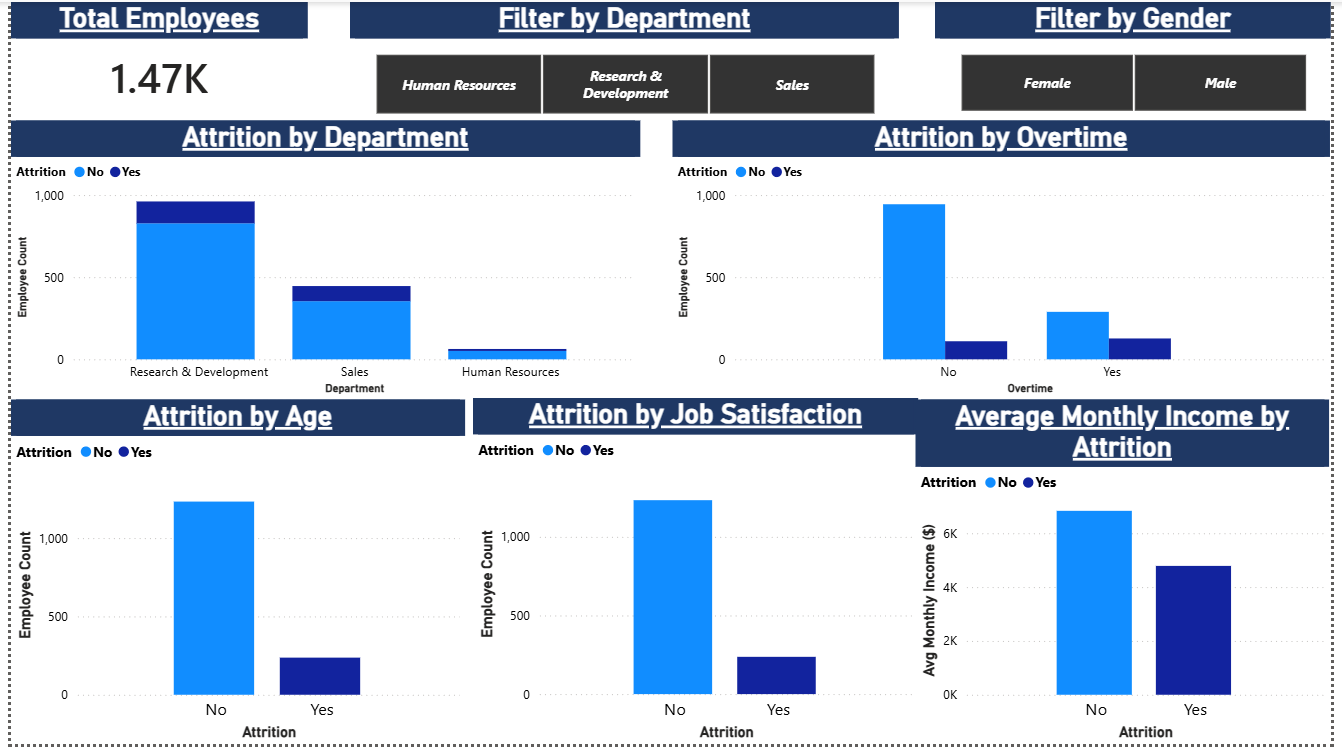

Layout of this report page (visuals, bound fields, positions):
{"tool":"powerbi","page":{"name":"Page 1","canvas":[1280,720],"ordinal":0},"visuals":[{"type":"cardVisual","title":"Total Employees","fields":{"Data":["CountNonNull(public attrition.employeenumber)"]},"box":[0,0,288,112],"z":0},{"type":"clusteredColumnChart","title":"Attrition by Overtime","fields":{"Category":["public attrition.overtime"],"Series":["public attrition.attrition"],"Y":["CountNonNull(public attrition.employeenumber)"]},"box":[641.2,115,638,270.4],"z":1000},{"type":"columnChart","title":"Attrition by Age","fields":{"Y":["CountNonNull(public attrition.age)"],"Category":["public attrition.attrition"],"Series":["public attrition.attrition"]},"box":[0,385.4,440.4,335.2],"z":2000},{"type":"columnChart","title":"Attrition by Job Satisfaction","fields":{"Y":["CountNonNull(public attrition.jobsatisfaction)"],"Category":["public attrition.attrition"],"Series":["public attrition.attrition"]},"box":[448,384,432,336],"z":3000},{"type":"columnChart","title":"Average Monthly Income by Attrition","fields":{"Y":["Avg(public attrition.monthlyincome)"],"Category":["public attrition.attrition"],"Series":["public attrition.attrition"]},"box":[877.6,385.4,401.6,335.2],"z":4000},{"type":"columnChart","title":"Attrition by Department","fields":{"Category":["public attrition.department"],"Series":["public attrition.attrition"],"Y":["CountNonNull(public attrition.employeenumber)"]},"box":[0,115,610.4,270.4],"z":5000},{"type":"slicer","title":"Filter by Gender","fields":{"Values":["public attrition.gender"]},"box":[896,0,384,112],"z":6000},{"type":"slicer","title":"Filter by Department","fields":{"Values":["public attrition.department"]},"box":[328.8,0,532.9,115.3],"z":7000}]}

Visuals, with their boxes in screenshot pixels (x1, y1, x2, y2), scaled from the page's 1280x720 canvas onto the 1342x748 screenshot:
"Total Employees" cardVisual: rect(0, 0, 302, 116)
"Attrition by Overtime" clusteredColumnChart: rect(672, 119, 1341, 400)
"Attrition by Age" columnChart: rect(0, 400, 462, 747)
"Attrition by Job Satisfaction" columnChart: rect(470, 399, 923, 747)
"Average Monthly Income by Attrition" columnChart: rect(920, 400, 1341, 747)
"Attrition by Department" columnChart: rect(0, 119, 640, 400)
"Filter by Gender" slicer: rect(939, 0, 1341, 116)
"Filter by Department" slicer: rect(345, 0, 903, 120)
